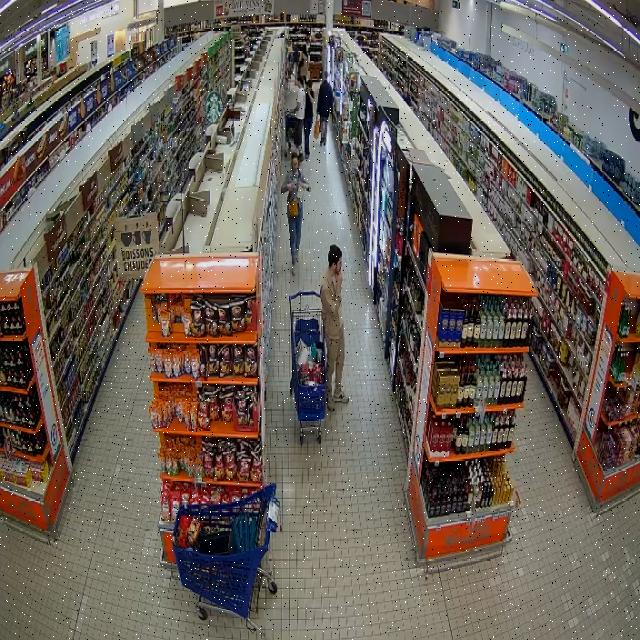article: (297, 186, 302, 200)
bags: (288, 202, 297, 217), (314, 116, 320, 138)
hands: (336, 272, 344, 287), (286, 183, 298, 190), (300, 183, 309, 190)
person: (321, 246, 348, 410), (280, 153, 310, 273), (317, 71, 333, 144), (295, 76, 305, 151), (305, 80, 313, 158), (298, 44, 308, 80)
